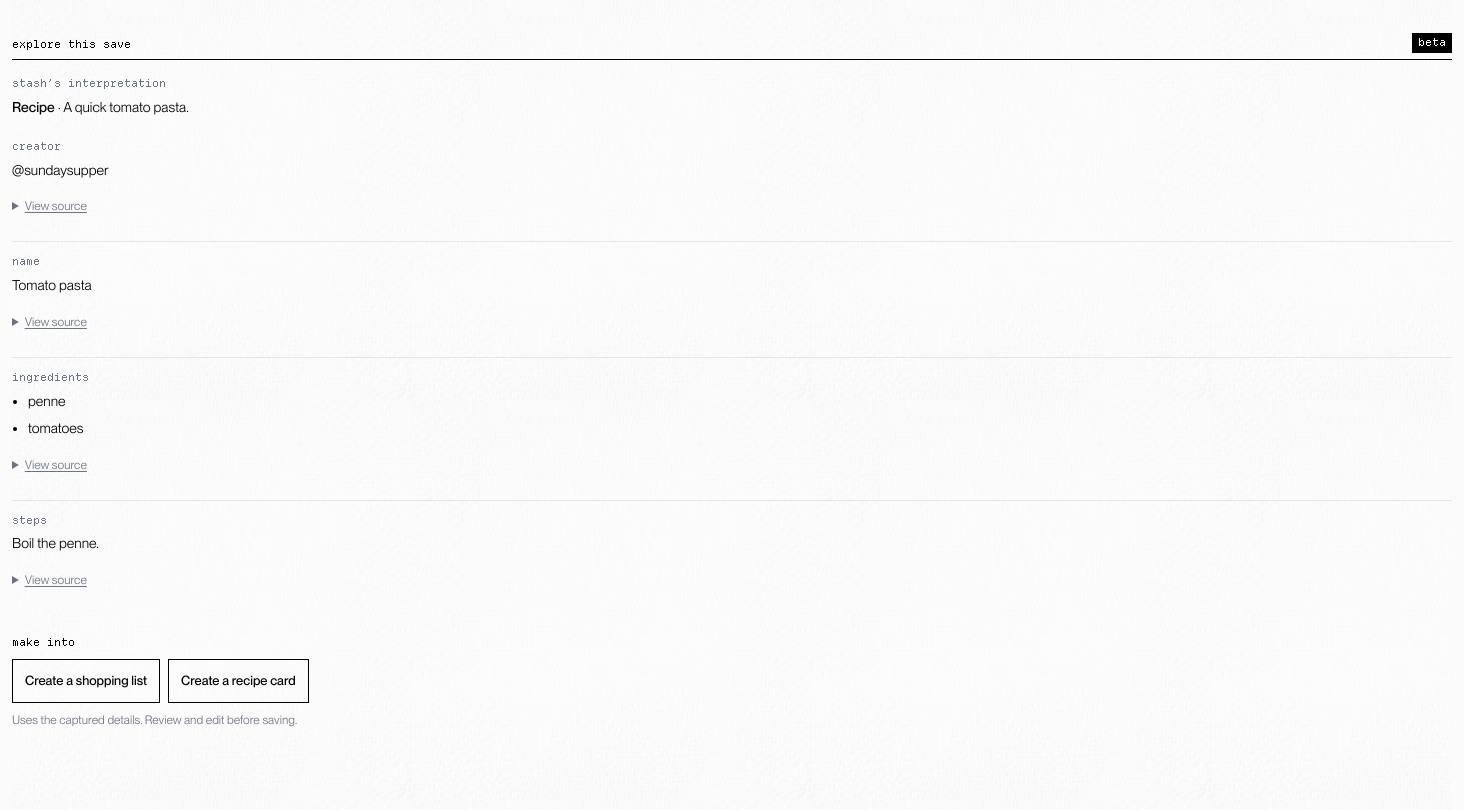
Test case: copies edited plain text and keeps edits when clipboard access fails
Click the button "Create a shopping list". click: coordinates (86, 681)
box: top-left (12, 659), bottom-right (160, 703)
(page scrolled)
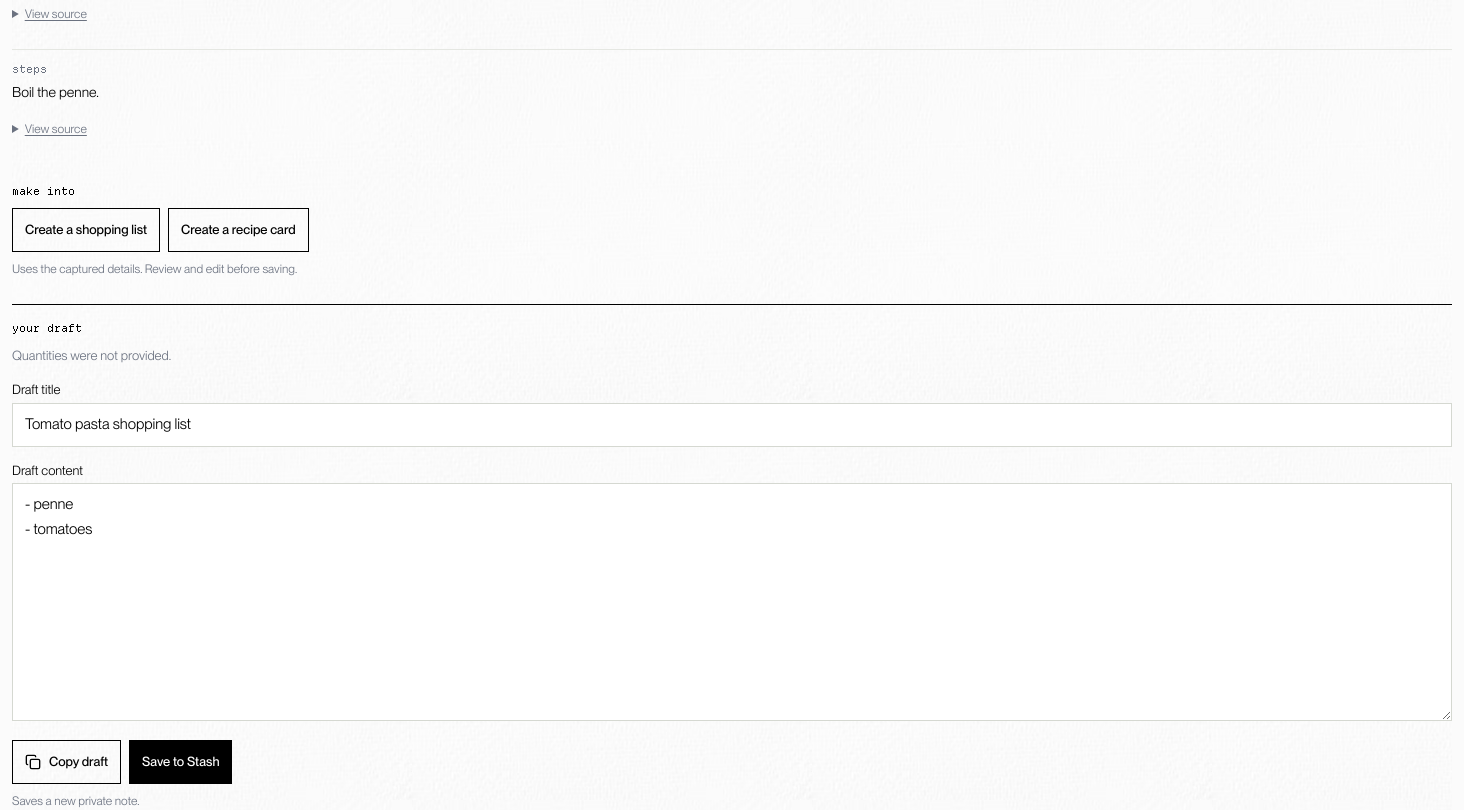
Replace the text in the text box labelled "Draft content" with "<b>My list</b>". click: coordinates (732, 602)
box: top-left (12, 484), bottom-right (1452, 721)
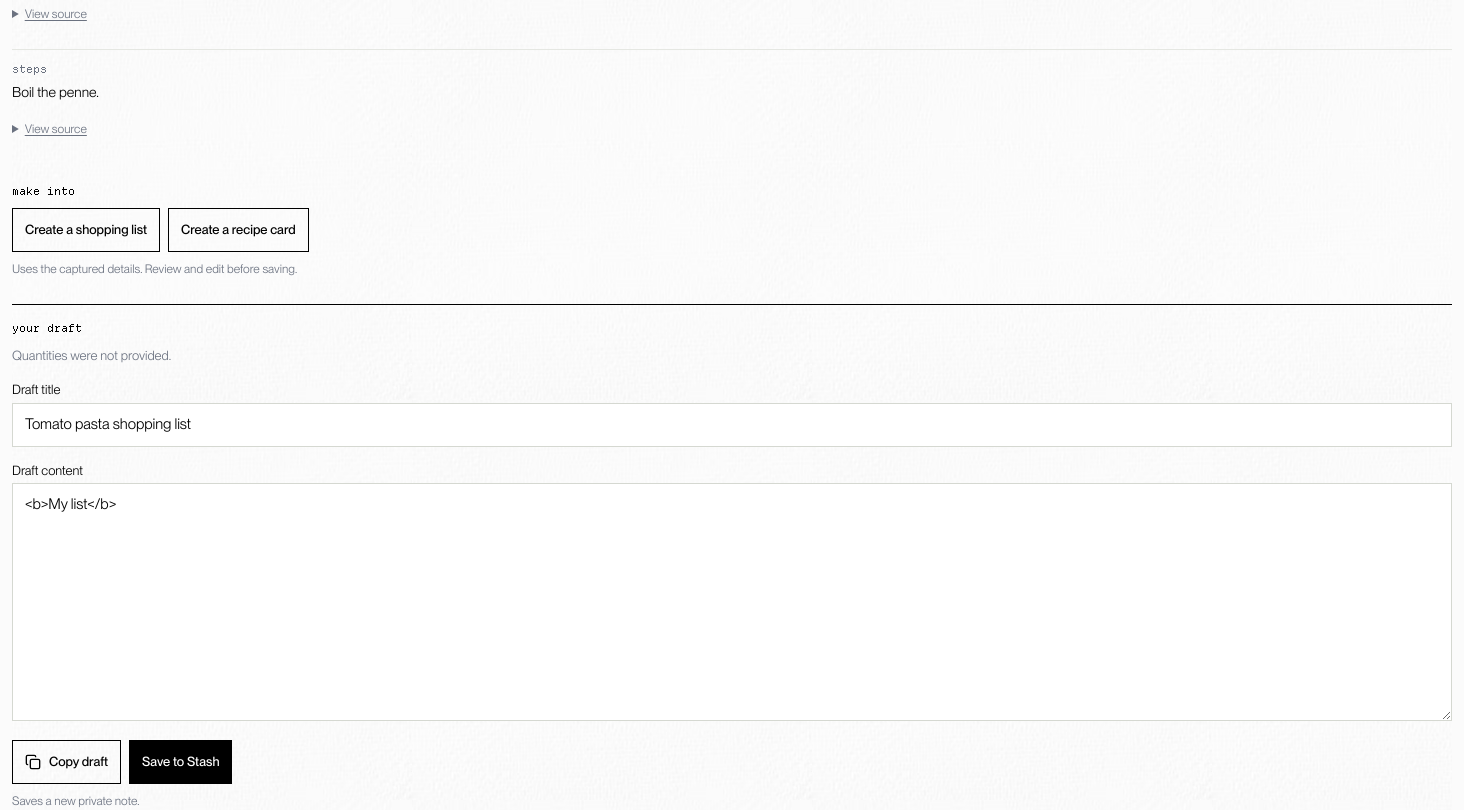
Click the button "Copy draft". click: coordinates (66, 762)
box: top-left (12, 740), bottom-right (121, 784)
(page scrolled)
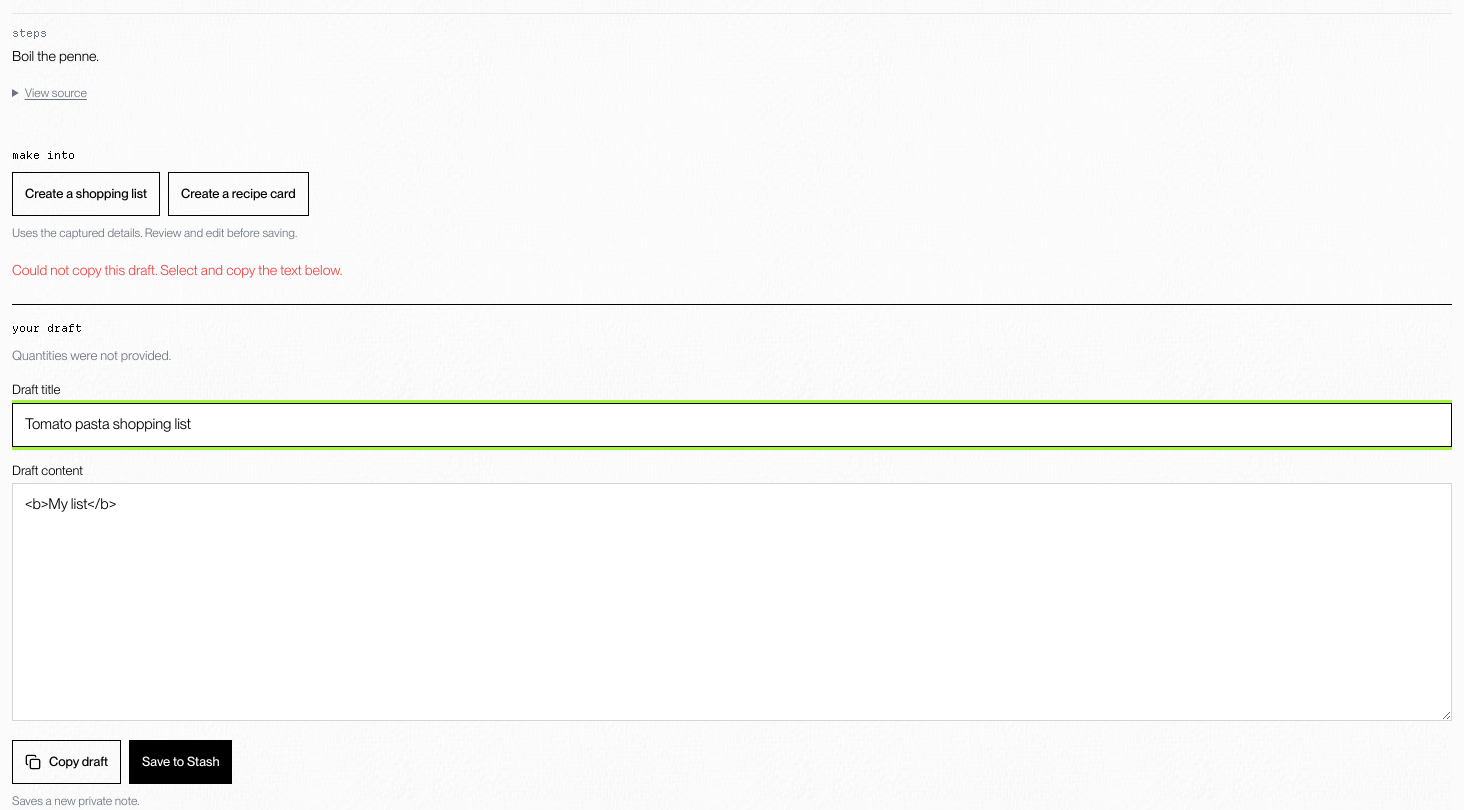
Result: the message "Could not copy this draft. Select and copy the text below." is shown at top-left (12, 262), bottom-right (342, 278)
Click the button "Copy draft". click: coordinates (66, 762)
box: top-left (12, 740), bottom-right (121, 784)
(page scrolled)
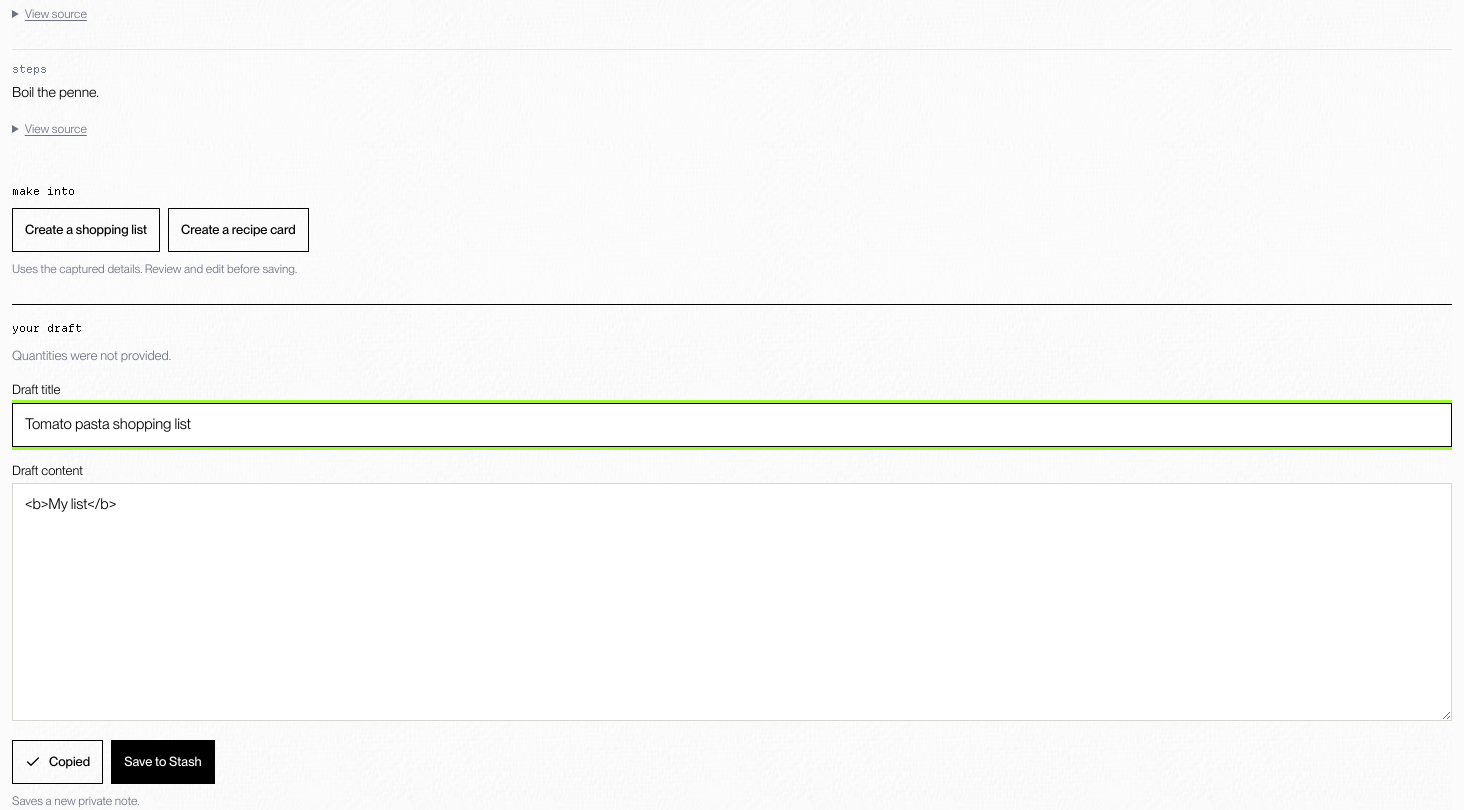
Result: the button "Copied" is shown at top-left (12, 740), bottom-right (103, 784)
